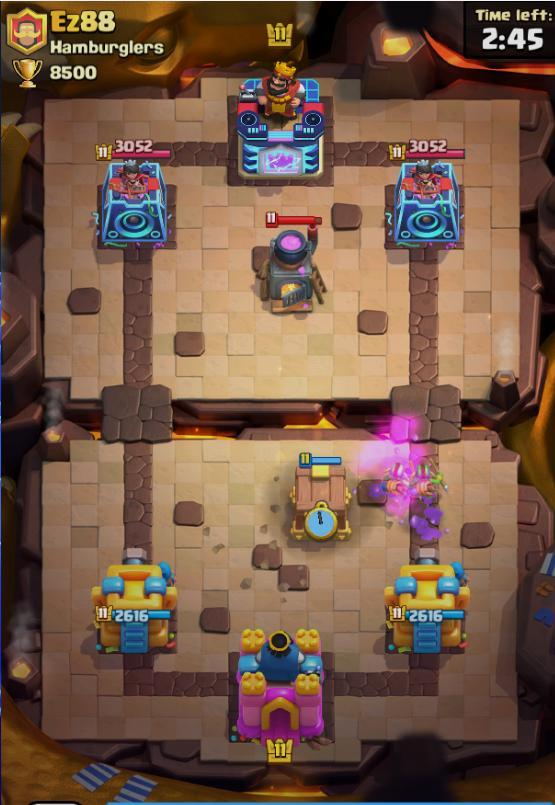EnemyPrincessTower: (392, 152, 464, 248), (96, 158, 166, 248)
OCannoneerTower: (92, 550, 176, 653), (386, 552, 469, 652)
OGoblinCage: (290, 452, 351, 541)
OSpearGoblin: (385, 461, 417, 504)
OwnKingTower: (230, 629, 330, 746), (413, 459, 447, 502)
